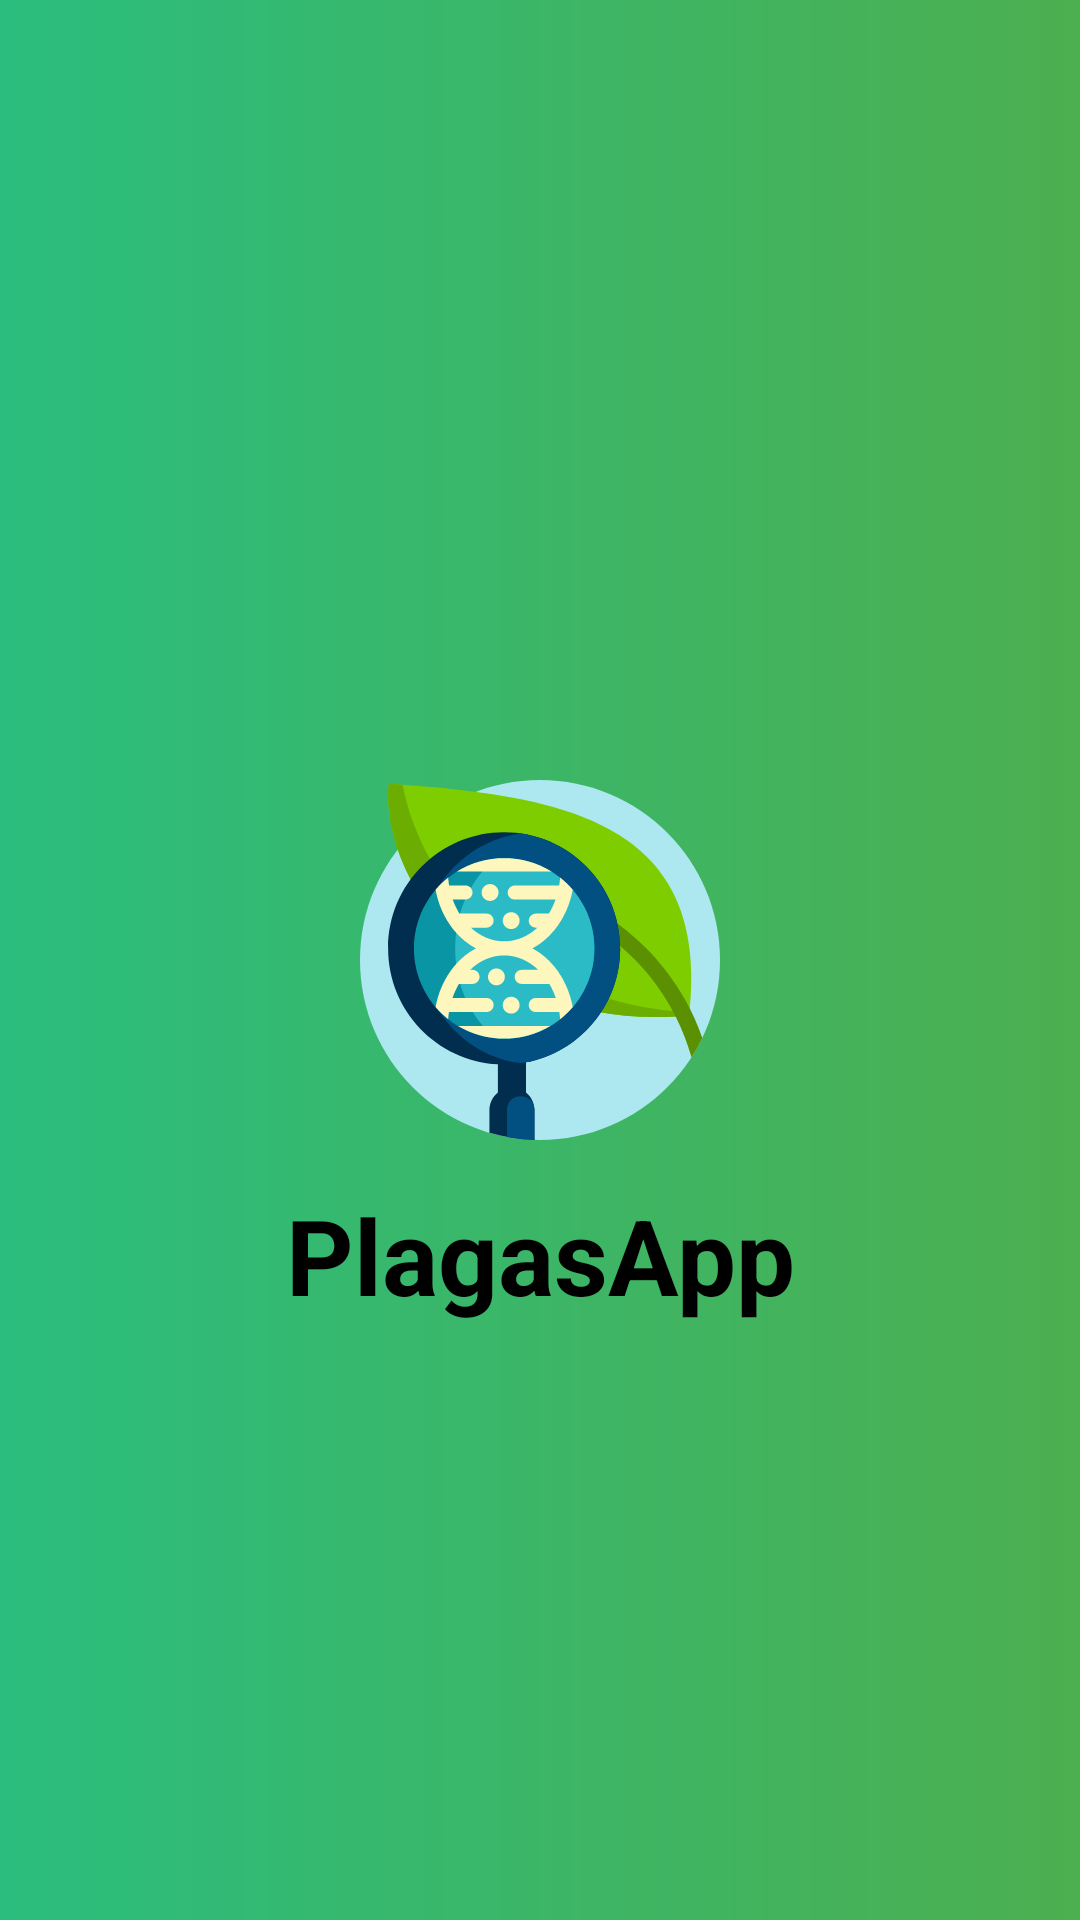

Locate icon controls on the screen. Image size 1080w x 1920h, boxes as bbox=(x1, y1, x2, y2).
diagnostico: bbox=(360, 780, 720, 1140)
